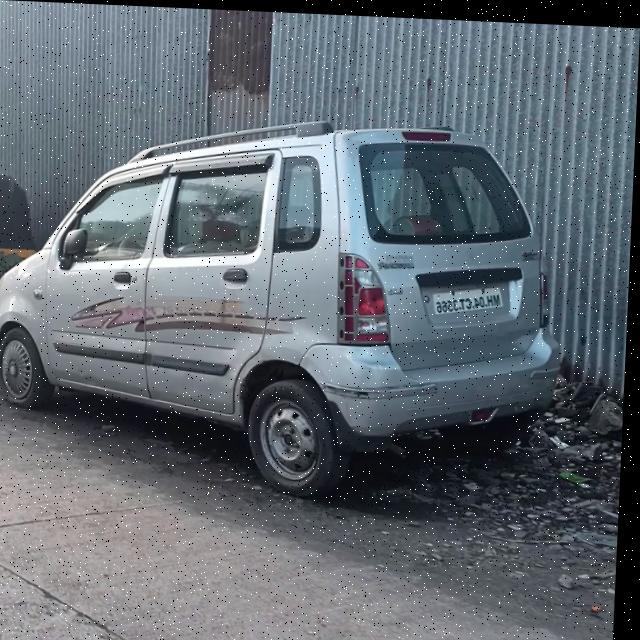plate: (435, 278, 507, 317)
